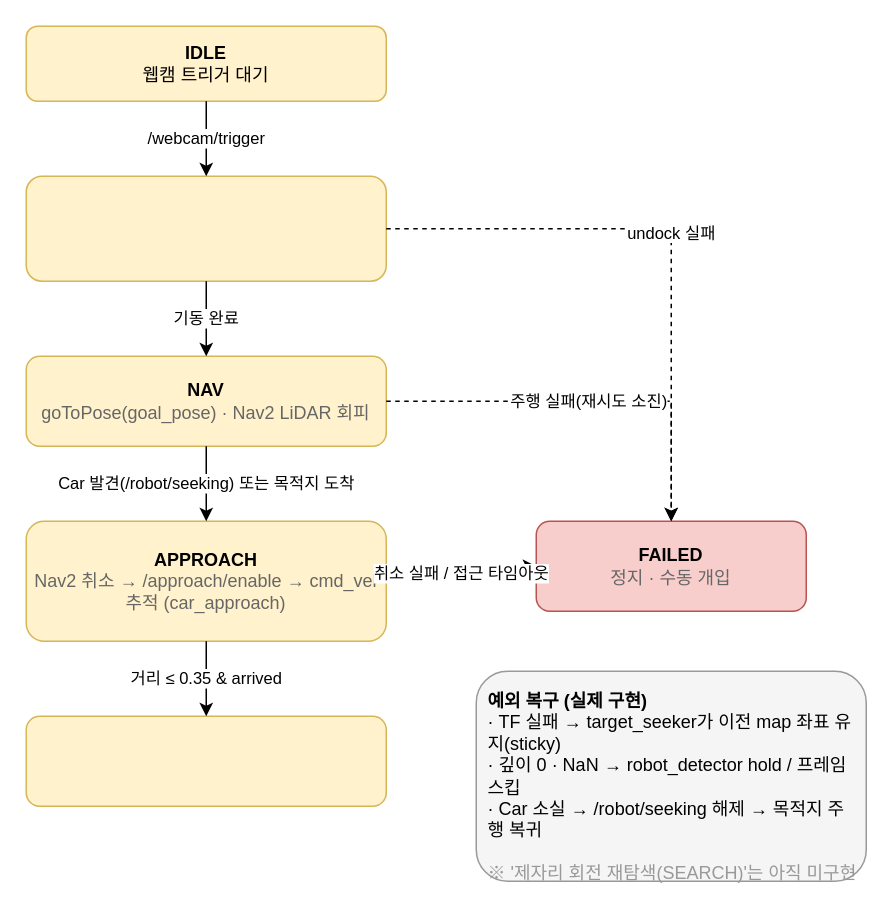
The diagram is 893 pixels wide and 912 high, and some of its shapes have lost their labels. The centre of each missing label's shape, as x and y in pixels:
"DONE cmd_vel 0 · /robot/state · dock 복귀" goes at (205,760).
"UNDOCK undock · setInitialPose · waitUntilNav2Active · AMCL 수렴" goes at (205,228).
